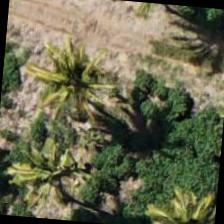Kelapa_Sawit: (30, 29, 128, 127), (2, 129, 100, 223)
